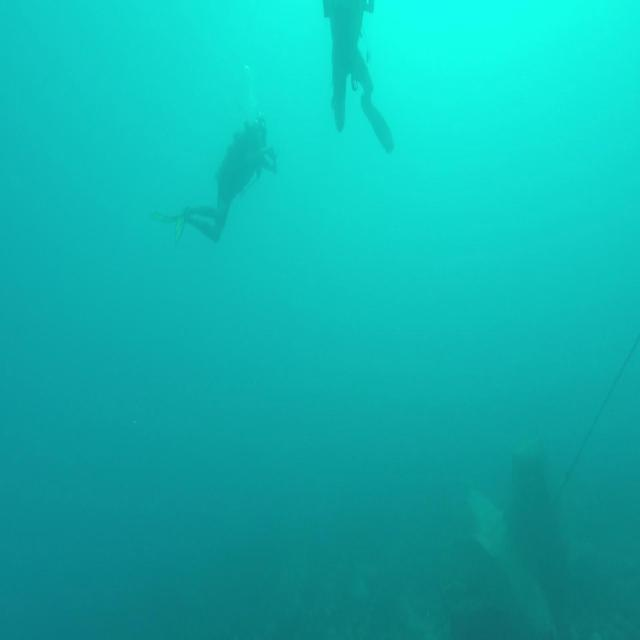human: (151, 110, 277, 246), (322, 0, 394, 154)
